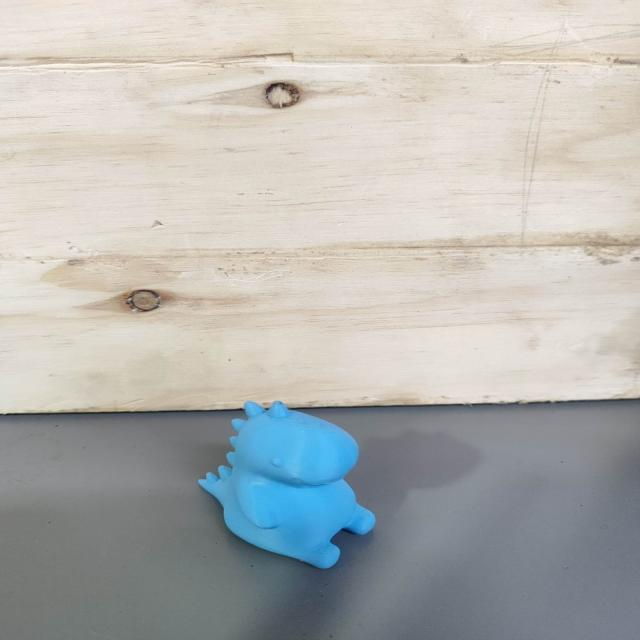DINO: (164, 392, 390, 574)
